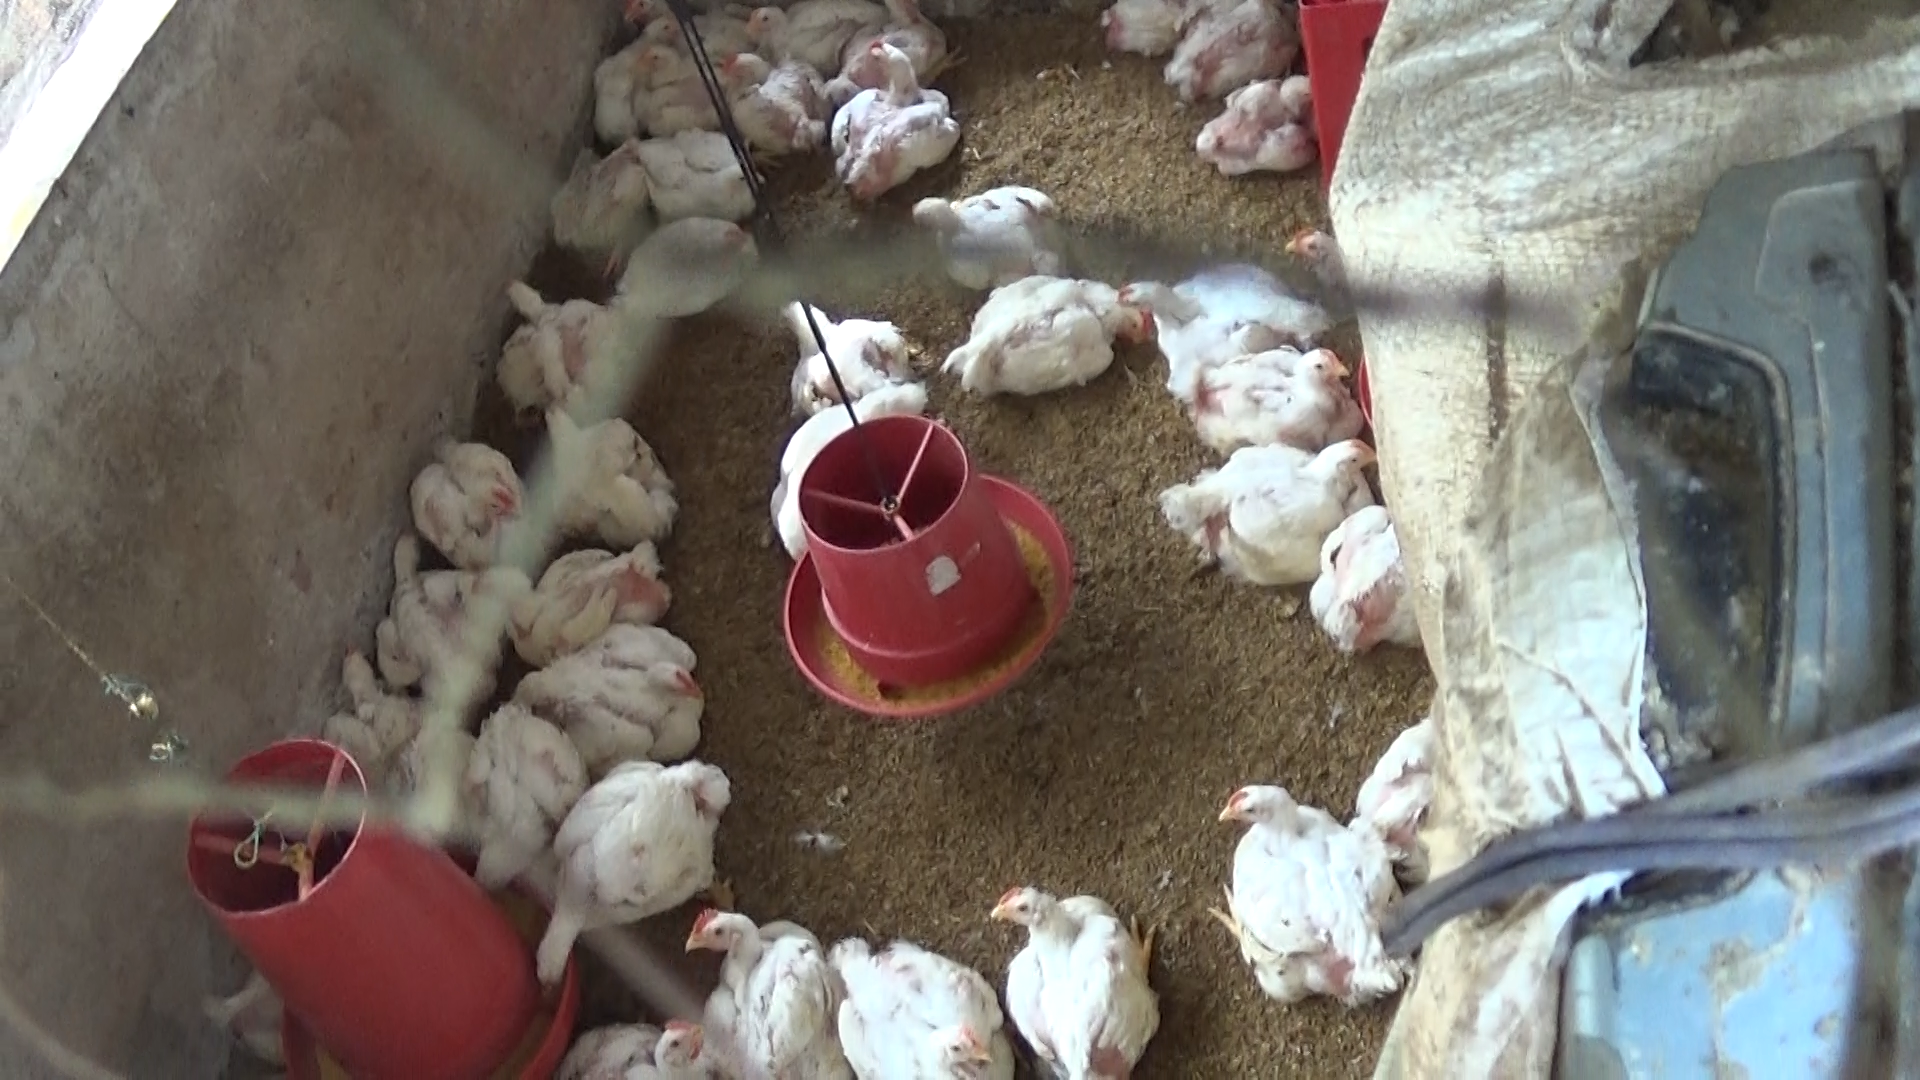Pollos: (526, 738, 735, 1006), (1211, 769, 1402, 993), (975, 882, 1164, 1077), (1151, 429, 1386, 585), (671, 889, 852, 1080), (436, 708, 587, 909), (822, 932, 1025, 1080), (498, 632, 716, 764), (1160, 343, 1367, 463), (934, 266, 1130, 392), (527, 397, 680, 549), (1117, 258, 1325, 359), (520, 517, 662, 658), (827, 42, 960, 191), (911, 166, 1071, 286), (356, 522, 480, 674), (313, 646, 431, 794), (612, 207, 760, 320), (491, 266, 618, 397), (1149, 0, 1294, 113), (770, 284, 906, 402), (593, 22, 760, 119), (1182, 61, 1323, 173), (407, 431, 526, 549), (560, 1002, 735, 1080), (632, 121, 760, 223), (851, 0, 981, 90), (712, 47, 819, 153), (555, 137, 653, 251), (615, 0, 765, 69), (740, 0, 880, 73), (618, 47, 745, 120), (1284, 222, 1352, 284), (1102, 0, 1170, 57)
